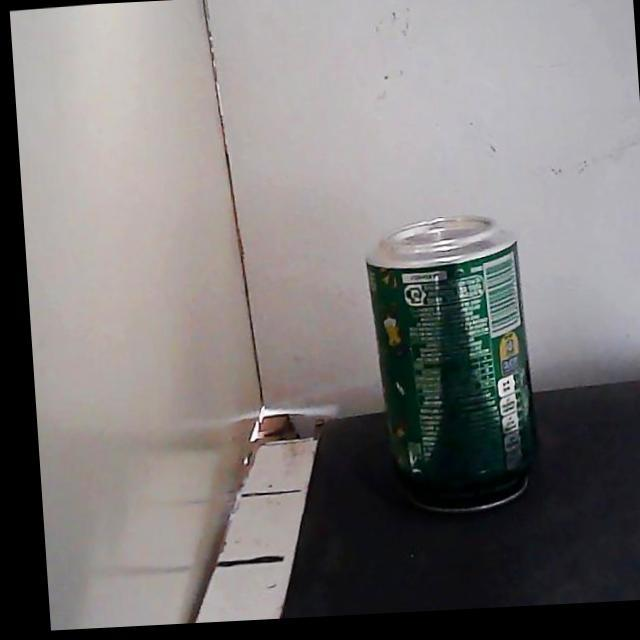metal: (367, 217, 536, 511)
